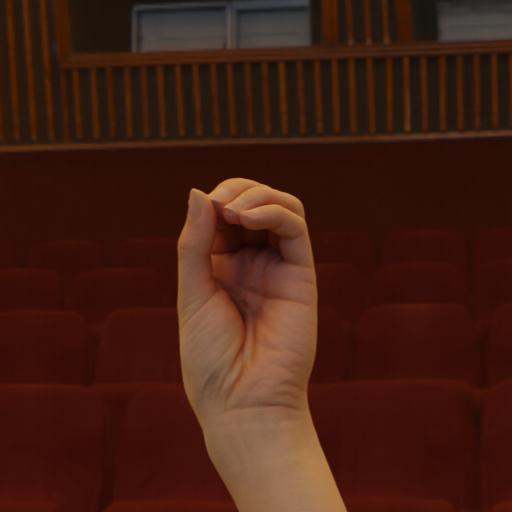O: (152, 150, 344, 432)
